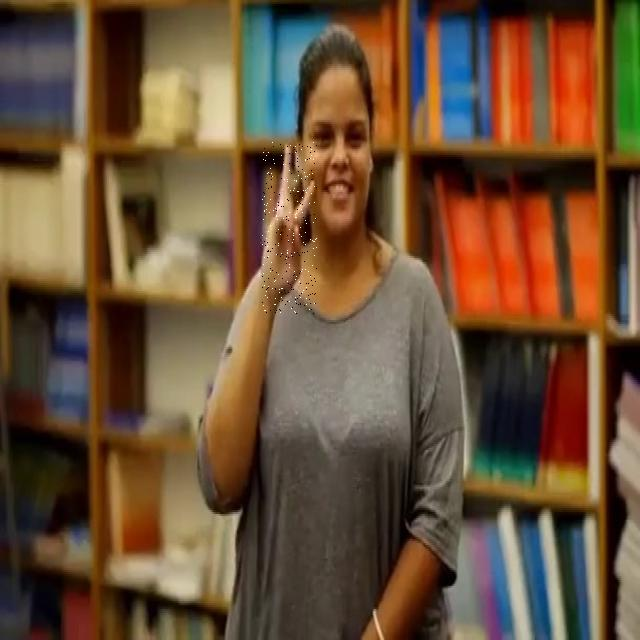vegetables: (262, 142, 317, 314)
